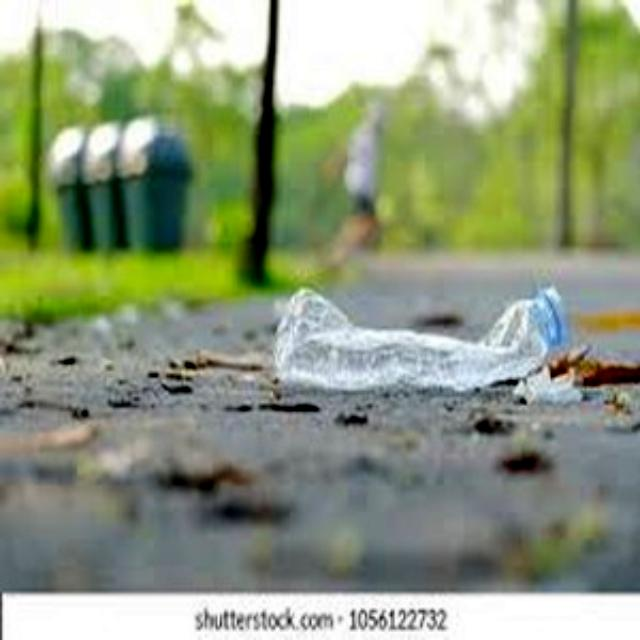Plastic: (270, 286, 568, 392)
